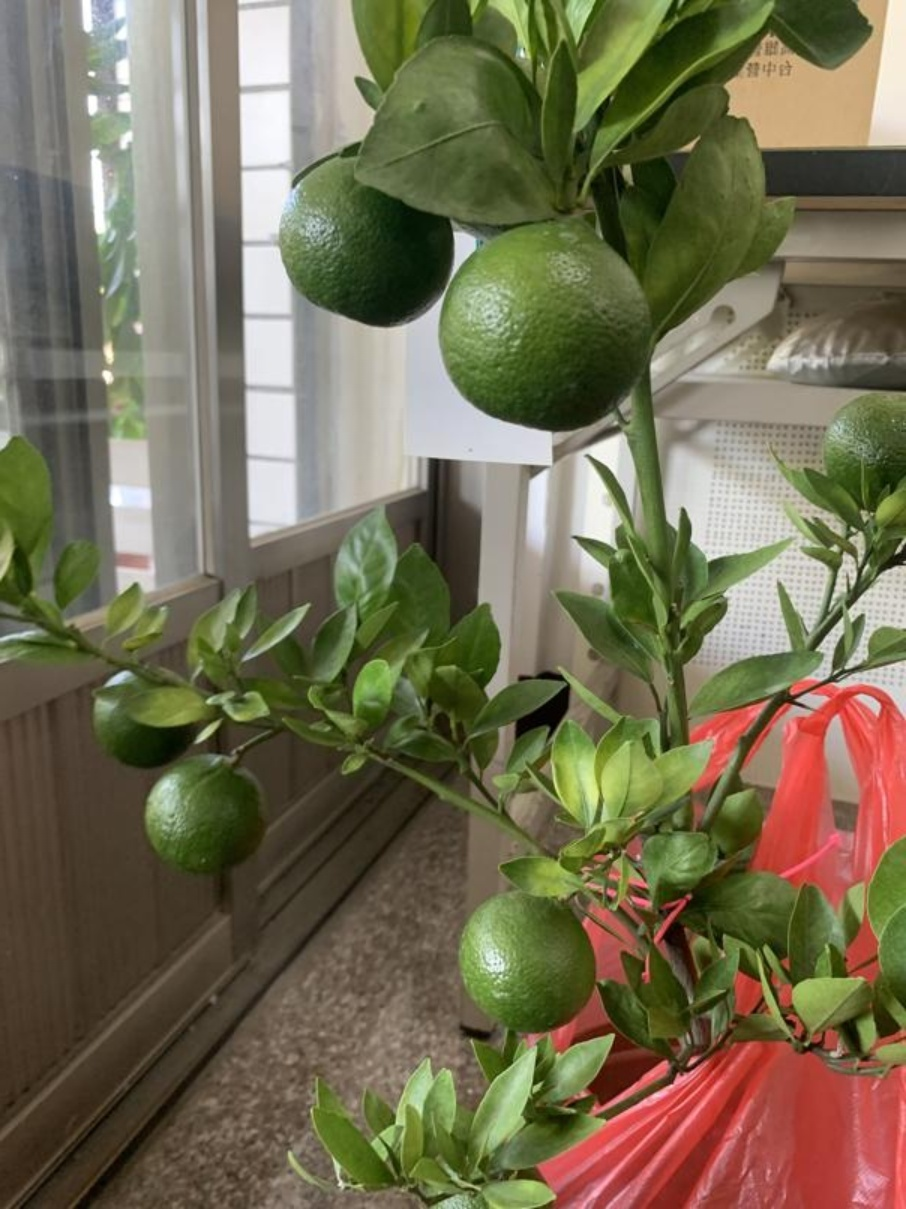Tangerine: (438, 205, 659, 434), (279, 150, 457, 330), (457, 888, 594, 1036), (137, 750, 277, 880), (822, 385, 905, 515)
